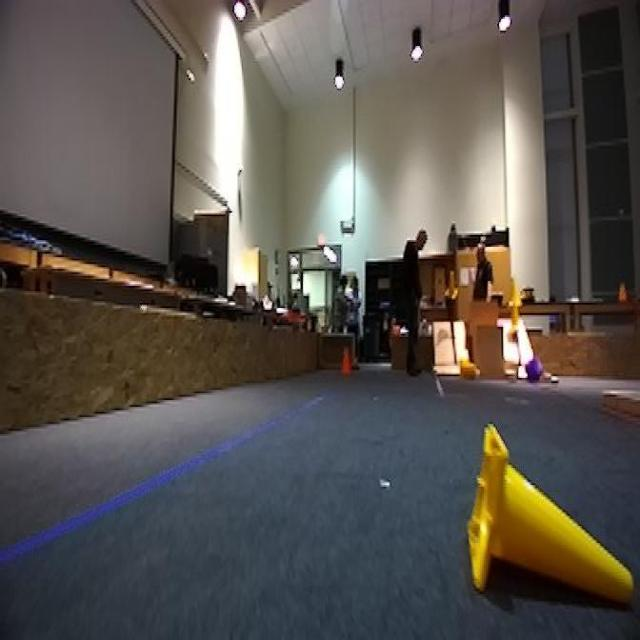frc_cone: (469, 434, 632, 604), (508, 277, 522, 310), (457, 361, 474, 385), (508, 308, 521, 335)
frc_cube: (526, 352, 543, 382)
